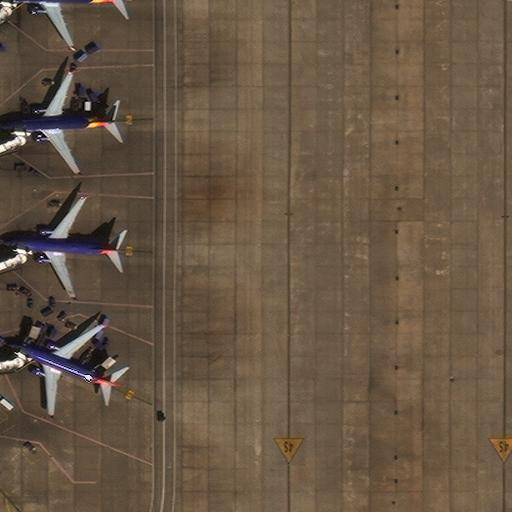Medium Civil Transport: (2, 72, 121, 173), (4, 196, 121, 298), (7, 323, 117, 414), (0, 0, 126, 49)
